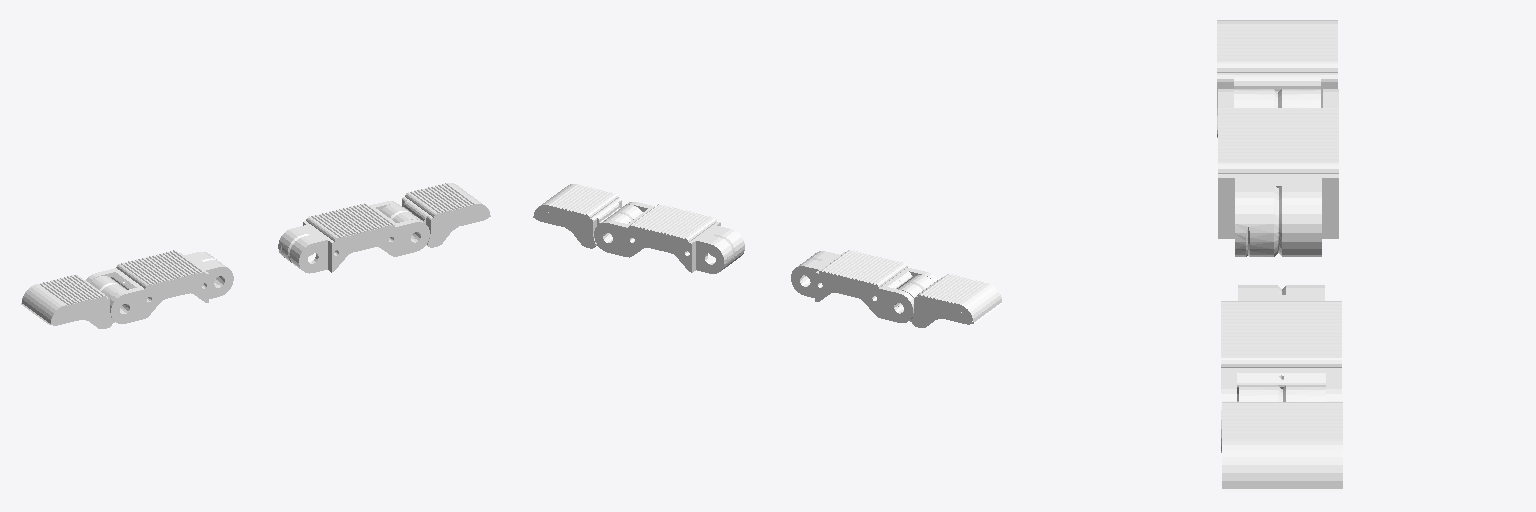
URDF robot description (hand_t42):
<?xml version="1.0" encoding="utf-8"?>
<!-- This URDF was automatically created by SolidWorks to URDF Exporter! Originally created by Stephen Brawner (brawner@gmail.com) 
     Commit Version: 1.6.0-4-g7f85cfe  Build Version: 1.6.7995.38578
     For more information, please see http://wiki.ros.org/sw_urdf_exporter -->
<robot
  name="hand_t42">
  <link
    name="base_link">
    <inertial>
      <origin
        xyz="0.0347632709633968 0.0724201503064491 0.0921195615856462"
        rpy="0 0 0" />
      <mass
        value="0.363961822458096" />
      <inertia
        ixx="0.000189468089534602"
        ixy="-1.45221019614931E-06"
        ixz="1.48834126625337E-06"
        iyy="0.000357636308986083"
        iyz="-1.80981739955079E-08"
        izz="0.000198311181797516" />
    </inertial>
    <visual>
      <origin
        xyz="0 0 0"
        rpy="0 0 0" />
      <geometry>
        <mesh
          filename="package://hand_t42/meshes/base_link.STL" />
      </geometry>
      <material
        name="">
        <color
          rgba="1 1 1 1" />
      </material>
    </visual>
    <collision>
      <origin
        xyz="0 0 0"
        rpy="0 0 0" />
      <geometry>
        <mesh
          filename="package://hand_t42/meshes/base_link.STL" />
      </geometry>
    </collision>
  </link>
  <link
    name="l_0">
    <inertial>
      <origin
        xyz="-0.0158734671879054 0.00328444400272782 -0.0305512511978549"
        rpy="0 0 0" />
      <mass
        value="0.0224683662359051" />
      <inertia
        ixx="9.49219562867667E-06"
        ixy="2.39628639424208E-10"
        ixz="-1.06583944382337E-09"
        iyy="1.13050511725466E-05"
        iyz="-1.98624260621957E-07"
        izz="2.63934092762998E-06" />
    </inertial>
    <visual>
      <origin
        xyz="0 0 0"
        rpy="0 0 0" />
      <geometry>
        <mesh
          filename="package://hand_t42/meshes/l_0.STL" />
      </geometry>
      <material
        name="">
        <color
          rgba="1 1 1 1" />
      </material>
    </visual>
    <collision>
      <origin
        xyz="0 0 0"
        rpy="0 0 0" />
      <geometry>
        <mesh
          filename="package://hand_t42/meshes/l_0.STL" />
      </geometry>
    </collision>
  </link>
  <joint
    name="l_0"
    type="revolute">
    <origin
      xyz="0.004881 -0.077103 0.11488"
      rpy="1.5708 0 1.5708" />
    <parent
      link="base_link" />
    <child
      link="l_0" />
    <axis
      xyz="1 0 0" />
    <limit
      lower="0"
      upper="0"
      effort="0"
      velocity="0" />
  </joint>
  <link
    name="l_1">
    <inertial>
      <origin
        xyz="-0.0158749973609221 0.00228122864539425 -0.0183957727533341"
        rpy="0 0 0" />
      <mass
        value="0.0228948104251781" />
      <inertia
        ixx="4.64499978548433E-06"
        ixy="-1.25087984665694E-13"
        ixz="-2.43742132803639E-13"
        iyy="5.88023972530834E-06"
        iyz="4.77445926256391E-07"
        izz="2.10422949304352E-06" />
    </inertial>
    <visual>
      <origin
        xyz="0 0 0"
        rpy="0 0 0" />
      <geometry>
        <mesh
          filename="package://hand_t42/meshes/l_1.STL" />
      </geometry>
      <material
        name="">
        <color
          rgba="1 1 1 1" />
      </material>
    </visual>
    <collision>
      <origin
        xyz="0 0 0"
        rpy="0 0 0" />
      <geometry>
        <mesh
          filename="package://hand_t42/meshes/l_1.STL" />
      </geometry>
    </collision>
  </link>
  <joint
    name="l_1"
    type="revolute">
    <origin
      xyz="-0.00015 0 -0.0625"
      rpy="0 0 0" />
    <parent
      link="l_0" />
    <child
      link="l_1" />
    <axis
      xyz="1 0 0" />
    <limit
      lower="0"
      upper="0"
      effort="0"
      velocity="0" />
  </joint>
  <link
    name="r_0">
    <inertial>
      <origin
        xyz="0.0158765578120946 -0.00328444400272776 0.0305512511978549"
        rpy="0 0 0" />
      <mass
        value="0.0224683662359052" />
      <inertia
        ixx="9.49219562867668E-06"
        ixy="-2.396286394247E-10"
        ixz="1.06583944381789E-09"
        iyy="1.13050511725466E-05"
        iyz="-1.98624260621958E-07"
        izz="2.63934092762998E-06" />
    </inertial>
    <visual>
      <origin
        xyz="0 0 0"
        rpy="0 0 0" />
      <geometry>
        <mesh
          filename="package://hand_t42/meshes/r_0.STL" />
      </geometry>
      <material
        name="">
        <color
          rgba="1 1 1 1" />
      </material>
    </visual>
    <collision>
      <origin
        xyz="0 0 0"
        rpy="0 0 0" />
      <geometry>
        <mesh
          filename="package://hand_t42/meshes/r_0.STL" />
      </geometry>
    </collision>
  </link>
  <joint
    name="r_0"
    type="revolute">
    <origin
      xyz="0.064581 -0.076203 0.11488"
      rpy="-1.5708 0 -1.5708" />
    <parent
      link="base_link" />
    <child
      link="r_0" />
    <axis
      xyz="1 0 0" />
    <limit
      lower="0"
      upper="0"
      effort="0"
      velocity="0" />
  </joint>
  <link
    name="r_1">
    <inertial>
      <origin
        xyz="0.0157250276207482 -0.000673237688533487 -0.0185244485367795"
        rpy="0 0 0" />
      <mass
        value="0.0228948104251781" />
      <inertia
        ixx="4.64499978548432E-06"
        ixy="-1.59327806374035E-13"
        ixz="-2.23422960651152E-13"
        iyy="5.93466694817781E-06"
        iyz="-1.39551207234665E-07"
        izz="2.04980227017405E-06" />
    </inertial>
    <visual>
      <origin
        xyz="0 0 0"
        rpy="0 0 0" />
      <geometry>
        <mesh
          filename="package://hand_t42/meshes/r_1.STL" />
      </geometry>
      <material
        name="">
        <color
          rgba="1 1 1 1" />
      </material>
    </visual>
    <collision>
      <origin
        xyz="0 0 0"
        rpy="0 0 0" />
      <geometry>
        <mesh
          filename="package://hand_t42/meshes/r_1.STL" />
      </geometry>
    </collision>
  </link>
  <joint
    name="r_1"
    type="revolute">
    <origin
      xyz="0 0 0.0625"
      rpy="-2.9819 0 0" />
    <parent
      link="r_0" />
    <child
      link="r_1" />
    <axis
      xyz="1 0 0" />
    <limit
      lower="0"
      upper="0"
      effort="0"
      velocity="0" />
  </joint>
</robot>

--- Render facts (derived) ---
3 views of the same robot in one strip: view 1: azimuth 30°, elevation 25°; view 2: azimuth 150°, elevation 25°; view 3: azimuth 270°, elevation 25° (orthographic).
Robot: hand_t42 — 5 links, 4 joints (4 revolute); root link base_link; default pose: all joints at 0.
Visible links, largest first — view 1: r_0, l_0, l_1, r_1; view 2: r_0, l_0, l_1, r_1; view 3: l_0, r_1, r_0, l_1.
Link boxes in pixels (x1=…): r_0: x1=278, y1=201, x2=429, y2=273; l_0: x1=86, y1=250, x2=233, y2=323; l_1: x1=21, y1=275, x2=125, y2=328; r_1: x1=381, y1=183, x2=490, y2=247; r_0: x1=594, y1=202, x2=744, y2=273; l_0: x1=791, y1=250, x2=937, y2=322; l_1: x1=898, y1=274, x2=1002, y2=327; r_1: x1=533, y1=184, x2=642, y2=248; l_0: x1=1218, y1=89, x2=1338, y2=256; r_1: x1=1222, y1=385, x2=1342, y2=491; r_0: x1=1221, y1=285, x2=1341, y2=452; l_1: x1=1217, y1=20, x2=1337, y2=137.
Size in the robot's own frame: 0.2807 by 0.033 by 0.0229 metres.
Meshes: 5 distinct files referenced, 4 mesh visuals loaded (4 binary STL); not drawn: 1 (reference not matched to a file when rendering).
